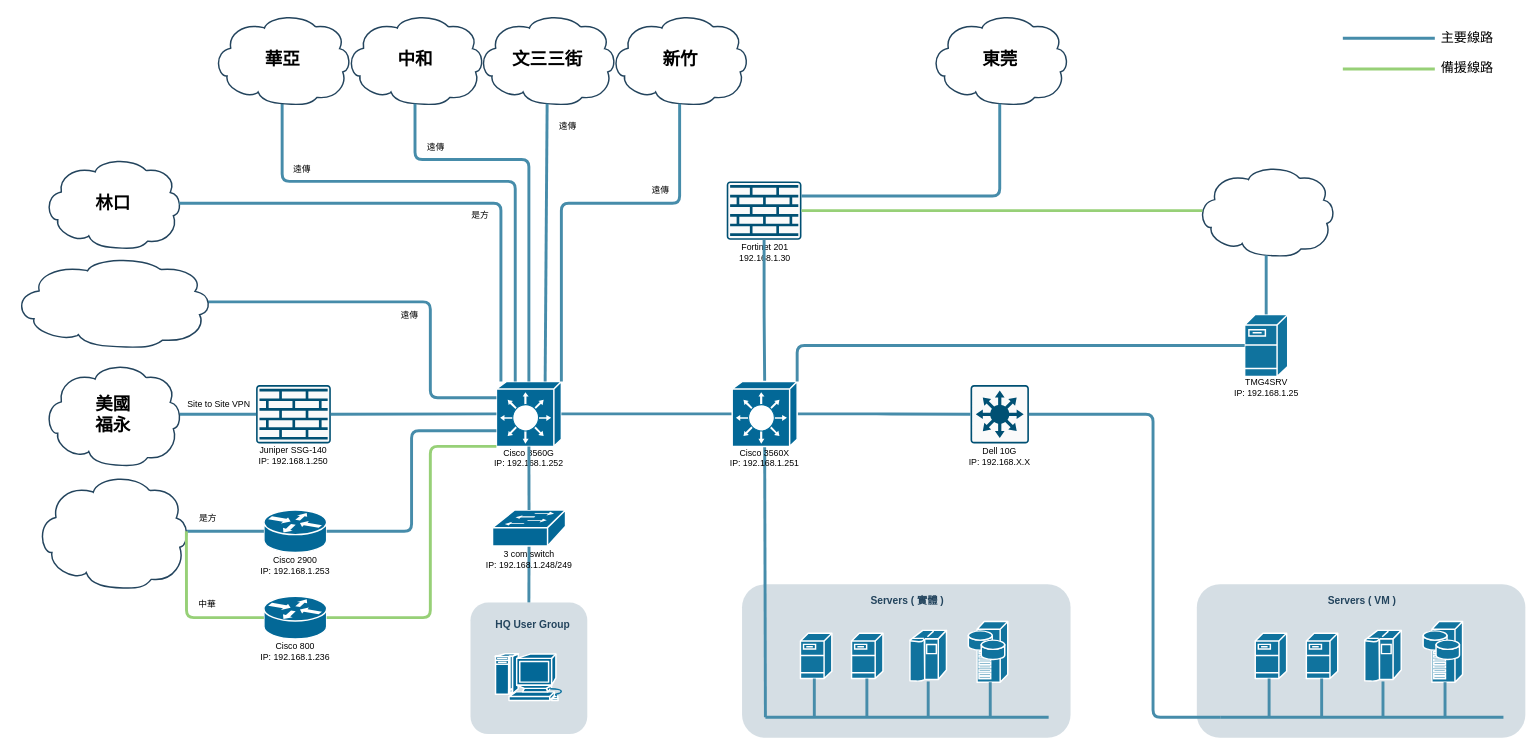
This 1537x750 diagram has some shape labels left out. The centre of each missing label's shape, as x and y in pixels:
Internet: the point at 1266,210
VX1200 Lync to 手機、市話: the point at 112,301
浩興昆山 浩興深圳 深圳耕興: the point at 112,531
